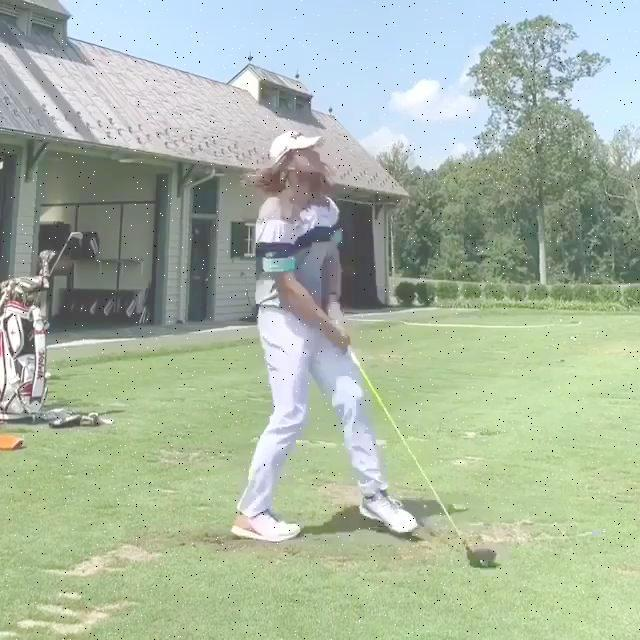ClubHead: (467, 548, 498, 566)
